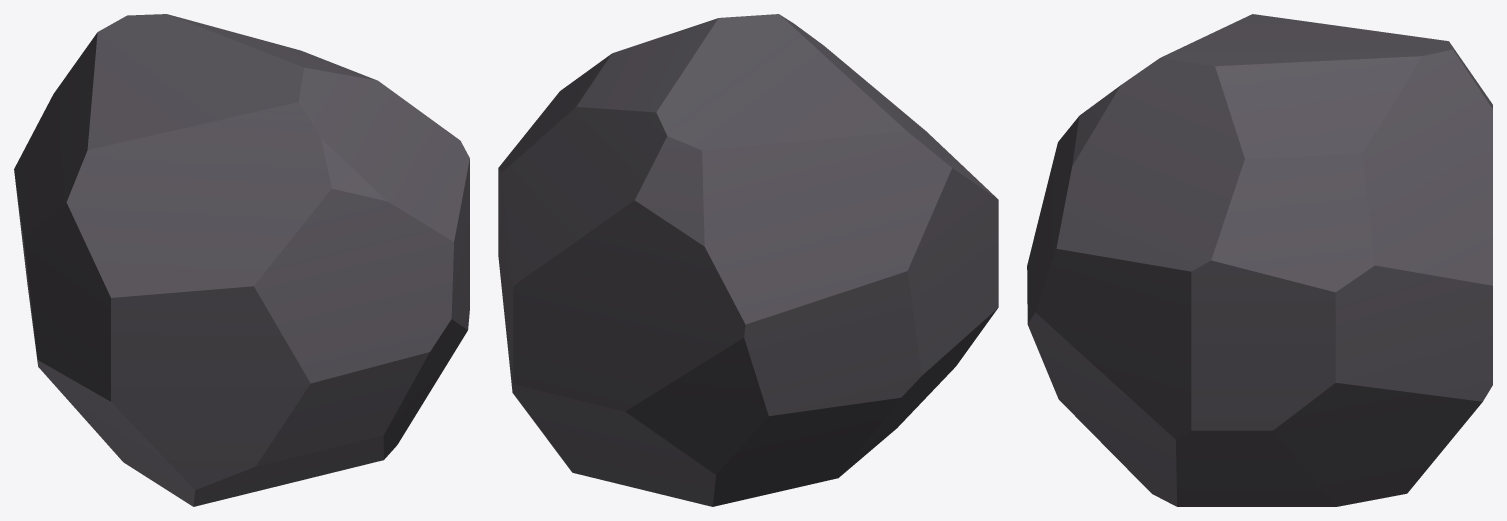
File: Rock_03.fbx
3 renders of one model, left to right at view 1: azimuth 30°, elevation 25°; view 2: azimuth 150°, elevation 25°; view 3: azimuth 270°, elevation 25°, orthographic. The views are drawn at different scales.
Parts seen in each view (by area): view 1: Rock_03_LOD0; view 2: Rock_03_LOD0; view 3: Rock_03_LOD0.
Boxes of the visible parts, <box> form: Rock_03_LOD0: <box>14,14,469,506</box>; Rock_03_LOD0: <box>498,14,998,506</box>; Rock_03_LOD0: <box>1027,14,1492,506</box>.
Size of what is drawn, in the model's own units: 96.46 by 91.46 by 95.99.
